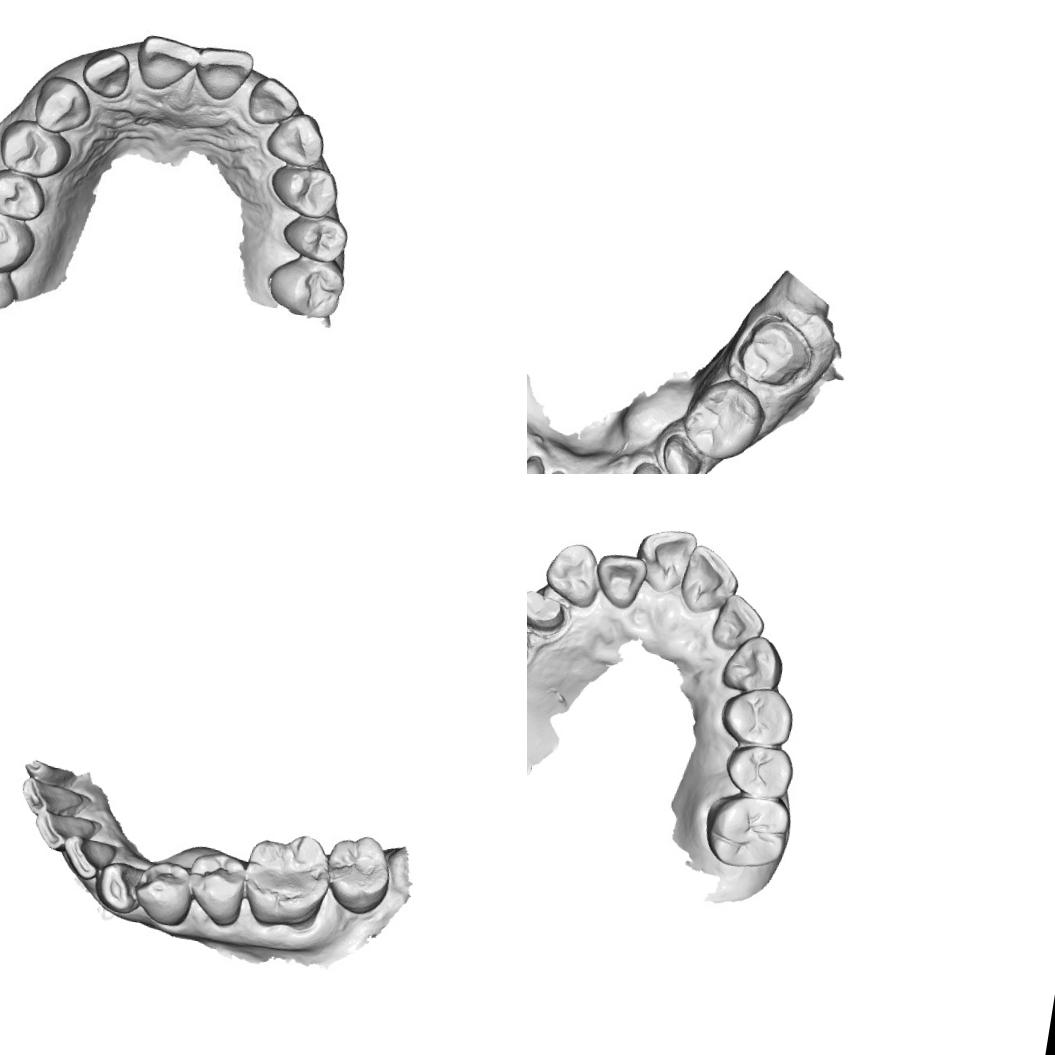canine: (538, 536, 606, 611), (717, 629, 789, 697), (26, 68, 96, 136), (91, 858, 146, 916), (268, 114, 324, 166), (622, 457, 677, 474)
crown: (730, 309, 820, 392), (527, 583, 576, 640), (655, 429, 709, 474)
incisor: (675, 541, 744, 621), (629, 522, 700, 598), (708, 588, 769, 657), (192, 44, 253, 108), (591, 549, 650, 613), (134, 36, 200, 92), (30, 809, 103, 857), (16, 776, 90, 822), (58, 832, 119, 884), (244, 72, 299, 126), (84, 48, 133, 99), (22, 756, 80, 788)
molar: (237, 825, 335, 937), (677, 372, 772, 468), (698, 787, 793, 875), (321, 830, 396, 920), (264, 251, 349, 325), (0, 197, 44, 281)
premolar: (716, 679, 800, 752), (183, 847, 251, 930), (720, 739, 798, 803), (130, 857, 198, 930), (278, 206, 352, 263), (1, 121, 70, 176), (276, 165, 336, 217), (0, 167, 49, 226)
